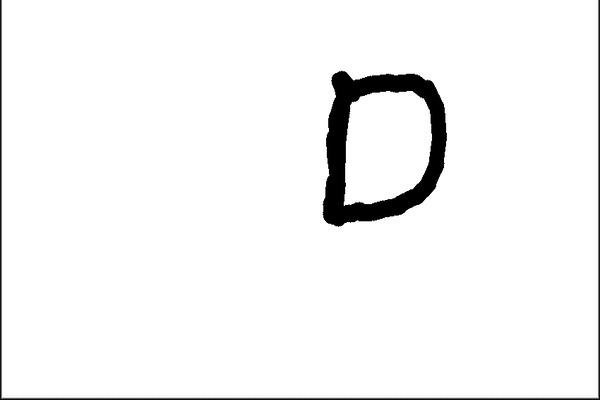D: (312, 65, 453, 229)
